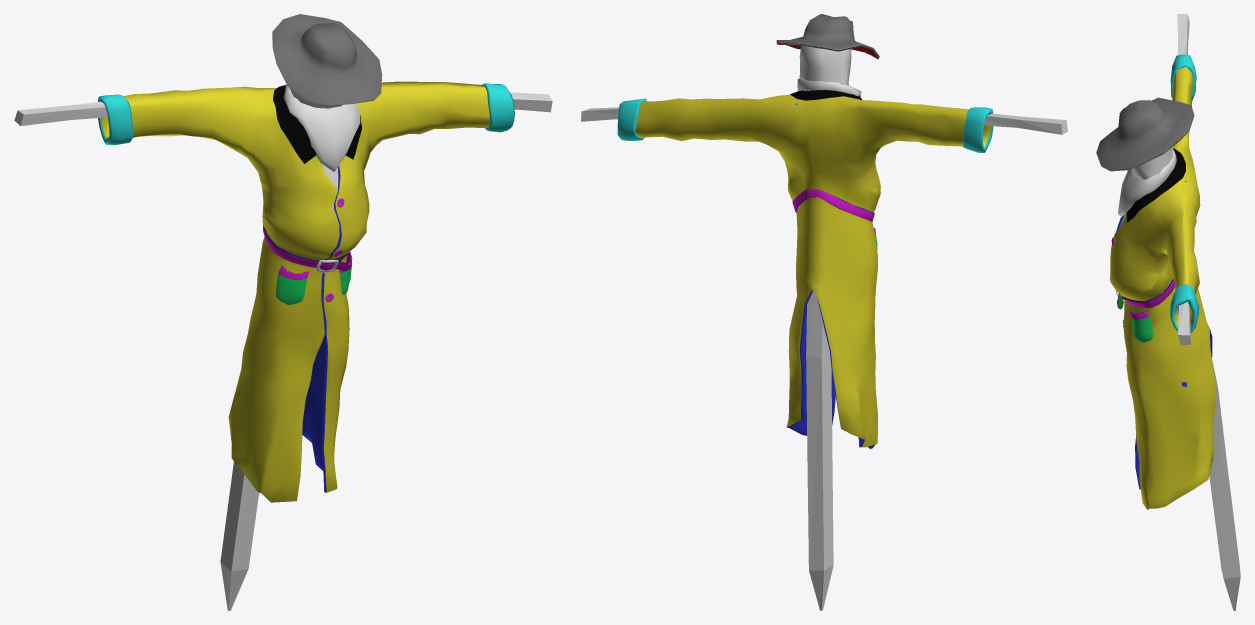
Rendered from Scarecrow.fbx.
3 renders of one model, left to right at view 1: azimuth 30°, elevation 25°; view 2: azimuth 150°, elevation 25°; view 3: azimuth 270°, elevation 25°, orthographic. The views are drawn at different scales.
Visible parts, largest first — view 1: coat, hat, scarecrow_stake, scarf, belt; view 2: coat, scarecrow_stake, hat, sack_head, belt; view 3: coat, hat, scarecrow_stake, scarf, sack_head, belt.
Part boxes in pixels (x1,y1,x2,y2): coat: (98,81,514,502); hat: (272,14,382,105); scarecrow_stake: (14,92,552,610); scarf: (283,84,360,171); belt: (263,226,350,271); coat: (617,90,993,448); scarecrow_stake: (581,106,1067,610); hat: (776,14,879,59); sack_head: (799,45,851,85); belt: (792,188,874,221); coat: (1110,54,1216,509); hat: (1096,97,1194,171); scarecrow_stake: (1177,14,1240,610); scarf: (1118,149,1176,216); sack_head: (1131,147,1172,179); belt: (1117,278,1174,309).
Size of the model in its own units: 3.16 by 3.45 by 0.8628.
